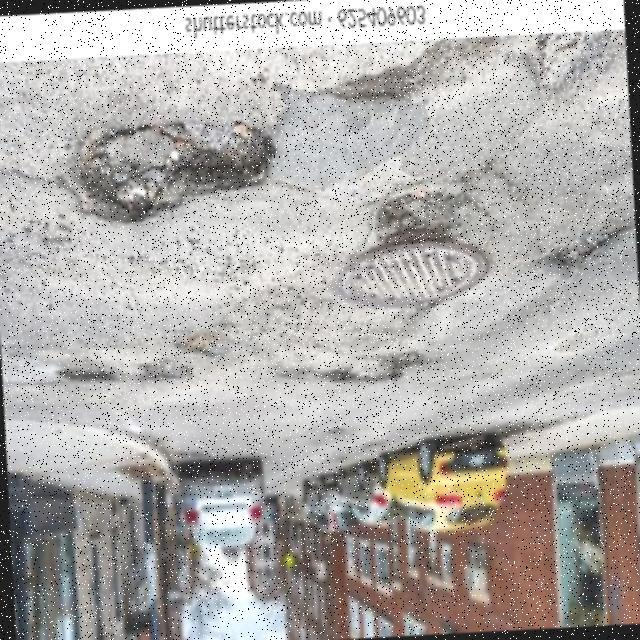Pothole: (75, 119, 272, 221), (373, 187, 454, 242), (64, 356, 202, 387), (320, 350, 423, 386)
